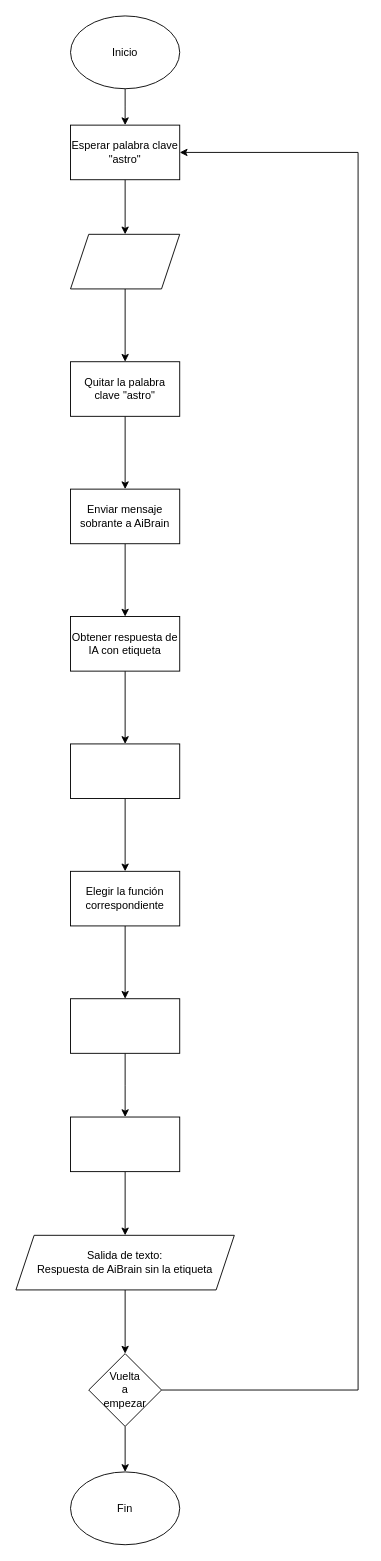
Image size: 381x1561. Some labels were removed from this diagram. Here are the shapes that lost their labels. From the top down, the centre of each, then its label:
At [125,261]: "Entrada de texto: Astro...".
At [125,771]: "Identificar la etiqueta".
At [125,1025]: "Ejecutar función elegida".
At [125,1144]: "Quitar la etiqueta de la respuesta de AiBrain".
